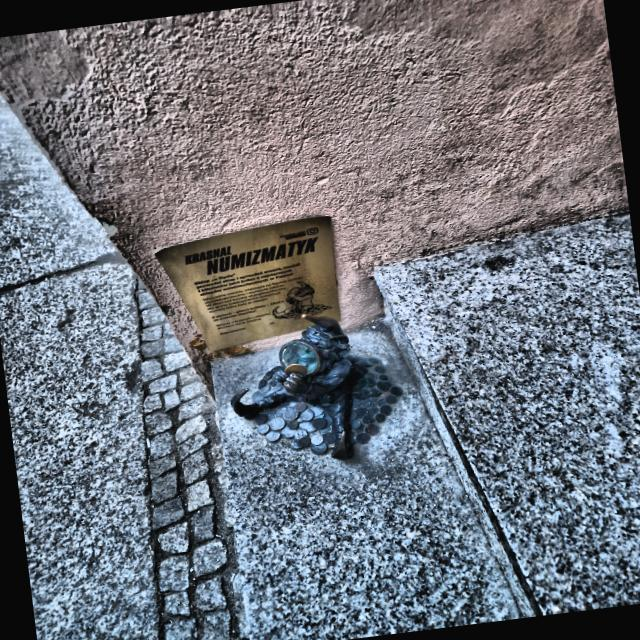Numizmatyk: (231, 315, 403, 459)
